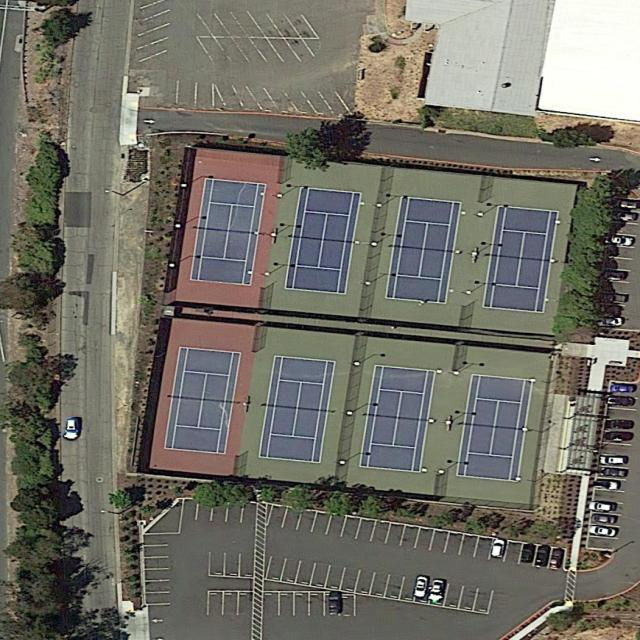small-vehicle: (427, 579, 446, 604), (607, 394, 635, 409), (412, 576, 430, 599), (533, 545, 551, 568), (599, 293, 630, 306), (603, 417, 634, 430), (588, 524, 616, 538), (518, 543, 536, 564), (608, 235, 636, 248), (63, 419, 80, 440), (490, 538, 507, 559), (549, 549, 566, 570), (598, 466, 627, 478), (602, 430, 630, 442), (611, 210, 636, 223), (600, 455, 627, 467), (593, 480, 620, 492), (328, 594, 342, 616), (595, 316, 622, 327), (588, 503, 617, 513), (602, 270, 626, 282), (614, 199, 639, 210), (591, 514, 616, 524), (611, 384, 636, 394)
